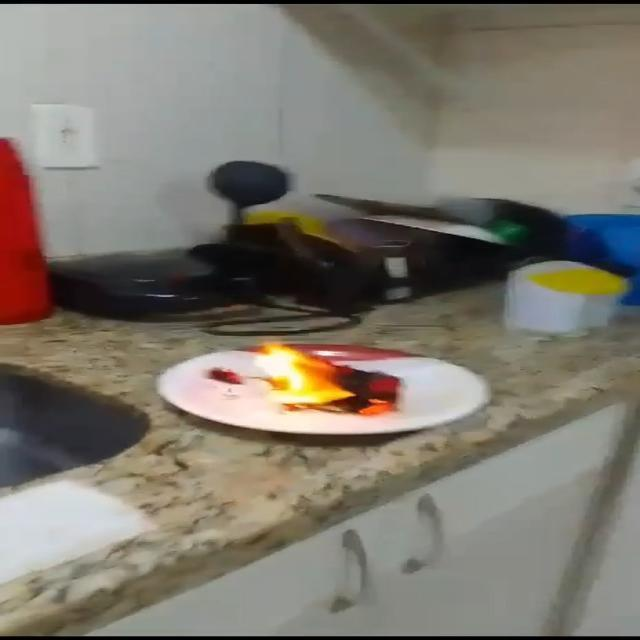fire: (254, 339, 352, 406)
